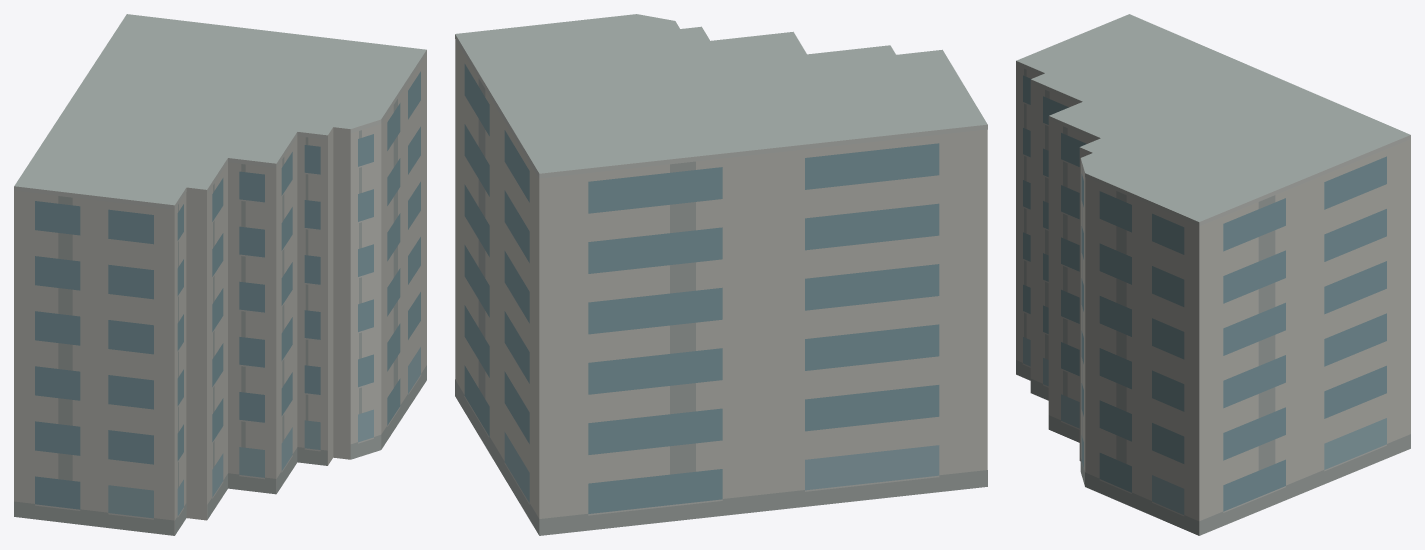
File: survey-upis-33015701.glb
3 views of the same model, side by side, from view 1: azimuth 30°, elevation 25°; view 2: azimuth 150°, elevation 25°; view 3: azimuth 270°, elevation 25° (orthographic). The views are drawn at different scales.
Parts seen in each view (by area): view 1: survey-upis-33015701.tmp; view 2: survey-upis-33015701.tmp; view 3: survey-upis-33015701.tmp.
Part boxes in pixels (x1,y1,x2,y2): survey-upis-33015701.tmp: [14, 14, 426, 535]; survey-upis-33015701.tmp: [455, 14, 987, 535]; survey-upis-33015701.tmp: [1016, 14, 1410, 535].
Size of the model in its own units: 25.55 by 17.95 by 20.48.
